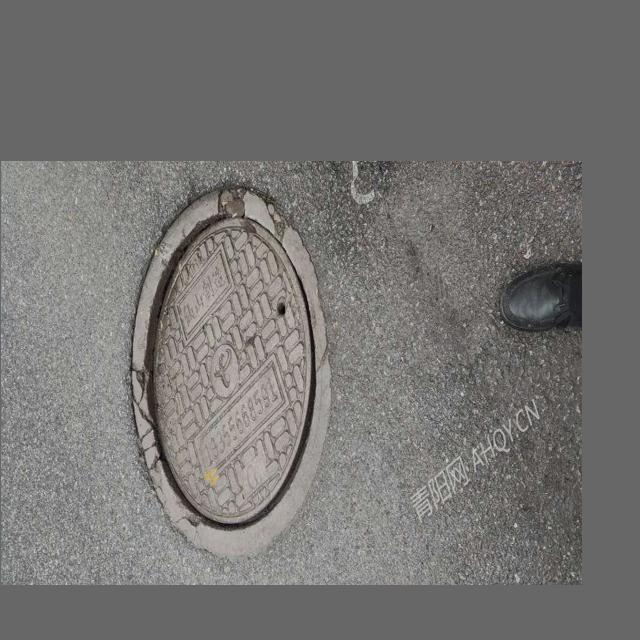circle: (95, 178, 347, 568)
